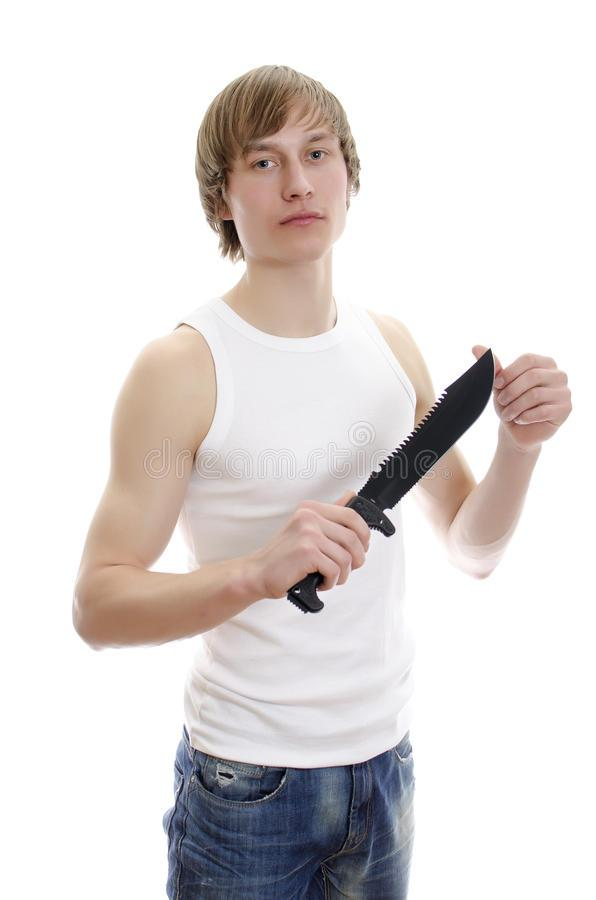criminal: (70, 60, 578, 900)
weapon: (285, 346, 502, 620)
